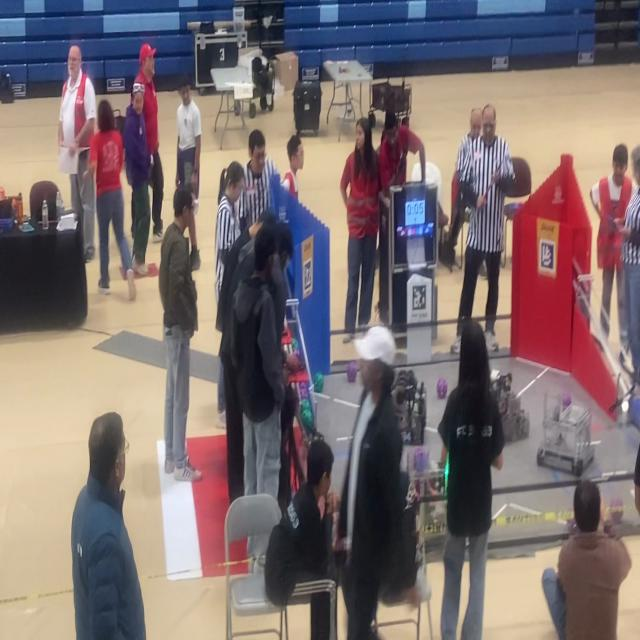artifact_green: (286, 354, 300, 373), (301, 409, 313, 429), (313, 372, 323, 392), (299, 383, 309, 399), (301, 399, 312, 412), (292, 349, 301, 363), (292, 339, 298, 349)
artifact_purple: (414, 447, 429, 475), (609, 497, 623, 525), (300, 407, 313, 429), (286, 354, 300, 374), (437, 378, 447, 399), (347, 361, 357, 382), (567, 519, 578, 535), (299, 383, 309, 399), (562, 392, 571, 409), (292, 349, 301, 362), (292, 338, 299, 349)
